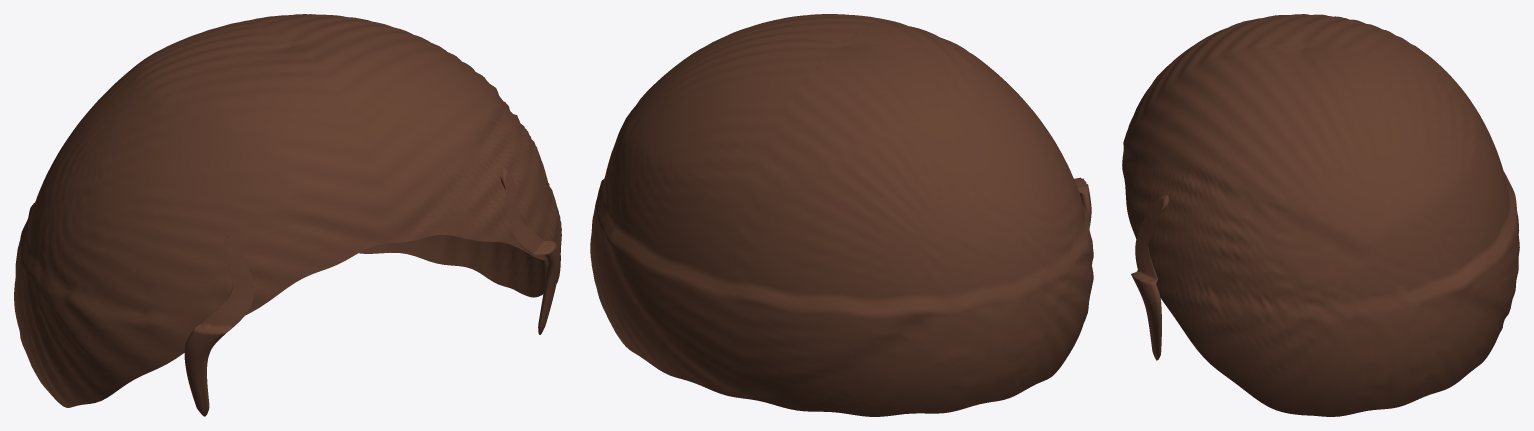
Rendered from Feminine-twin-braids-beanie251-hair.glb.
3 views of the same model, side by side, from view 1: azimuth 30°, elevation 25°; view 2: azimuth 150°, elevation 25°; view 3: azimuth 270°, elevation 25° (orthographic). The views are drawn at different scales.
Parts seen in each view (by area): view 1: 226 hair / Hair / chestnut226.002; view 2: 226 hair / Hair / chestnut226.002; view 3: 226 hair / Hair / chestnut226.002.
Part boxes in pixels (bbox=[...]): 226 hair / Hair / chestnut226.002: bbox=[14, 14, 561, 416]; 226 hair / Hair / chestnut226.002: bbox=[590, 14, 1093, 416]; 226 hair / Hair / chestnut226.002: bbox=[1122, 14, 1519, 416].
Bounding box in the file's own units: 0.9981 × 0.5988 × 0.7846.
